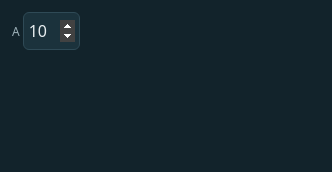
Test: NumberField › clamps to the range and shows the clamped value
Replace the text in the number field named "Amount" with "999" at (52, 31), box [23, 12, 80, 50]
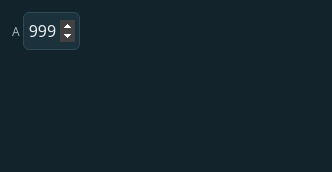
Leave the number field named "Amount", box [23, 12, 80, 50]
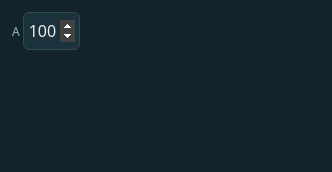
Check: the number field named "Amount" holds "100"
Replace the text in the number field named "Amount" with "-5" at (52, 31), box [23, 12, 80, 50]
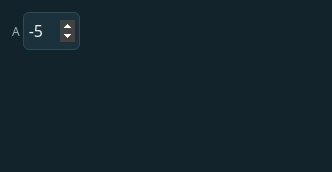
Leave the number field named "Amount", box [23, 12, 80, 50]
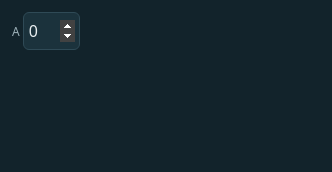
Check: the number field named "Amount" holds "0", box [23, 12, 80, 50]
